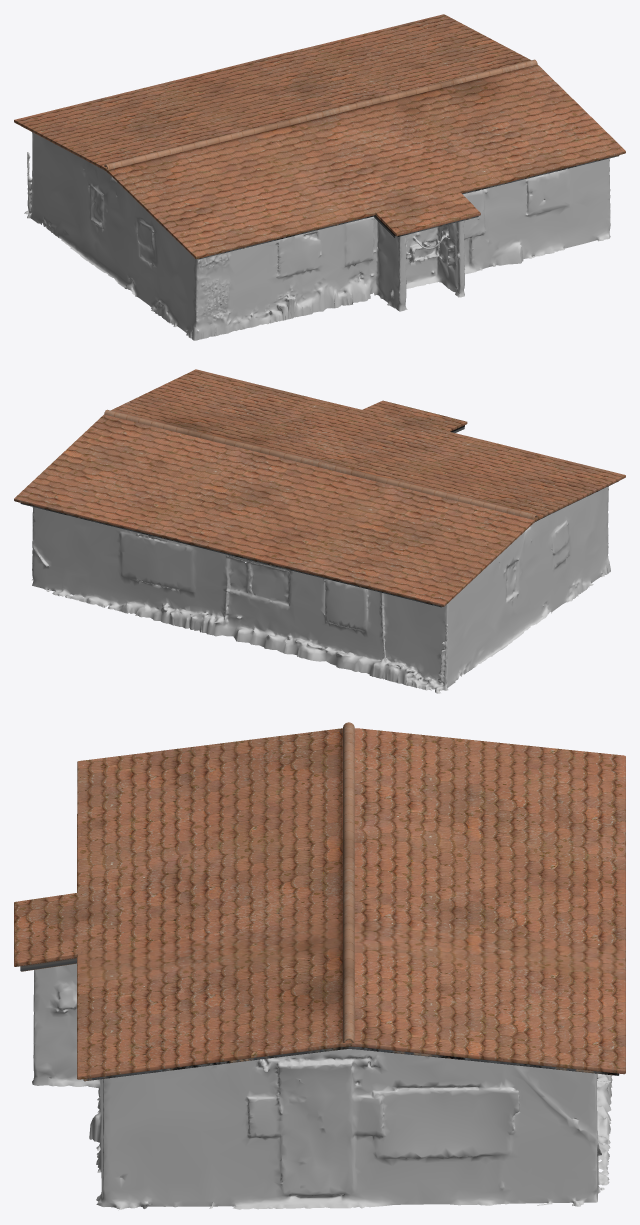
File: MOD_HouseC_House.fbx
The picture shows the model from 3 angles, top to bottom: view 1: azimuth 30°, elevation 25°; view 2: azimuth 150°, elevation 25°; view 3: azimuth 270°, elevation 25°; orthographic projection. The views are drawn at different scales.
Parts seen in each view (by area): view 1: MOD_HouseC_Roof, MOD_HouseC_House; view 2: MOD_HouseC_Roof, MOD_HouseC_House; view 3: MOD_HouseC_Roof, MOD_HouseC_House.
Boxes of the visible parts, x1=… form: MOD_HouseC_Roof: x1=14, y1=14, x2=625, y2=259; MOD_HouseC_House: x1=24, y1=132, x2=610, y2=340; MOD_HouseC_Roof: x1=14, y1=369, x2=625, y2=607; MOD_HouseC_House: x1=32, y1=486, x2=610, y2=693; MOD_HouseC_Roof: x1=14, y1=722, x2=625, y2=1081; MOD_HouseC_House: x1=32, y1=963, x2=612, y2=1210.
Bounding box in the file's own units: 1202 × 315 × 982.
